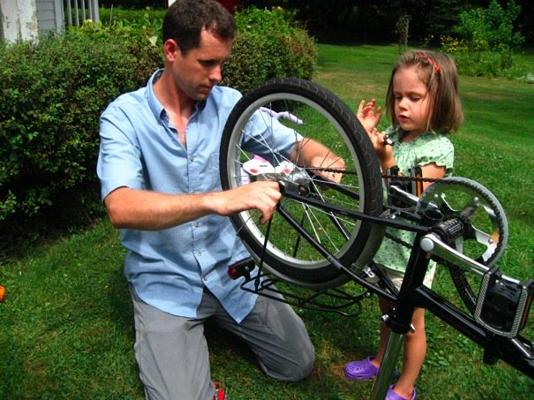person: (94, 1, 350, 400)
